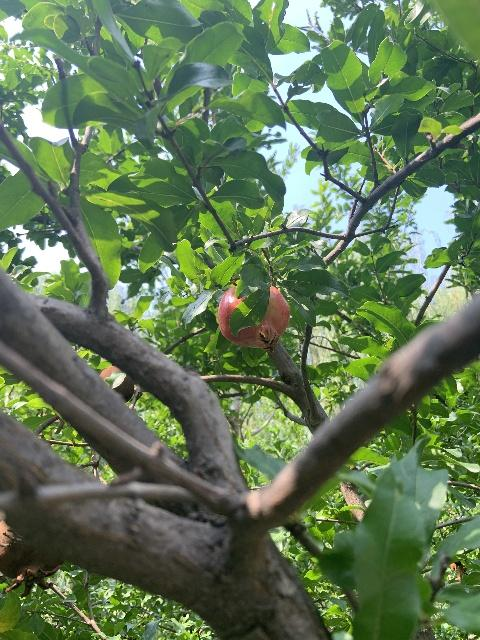ripe: (217, 284, 290, 353)
